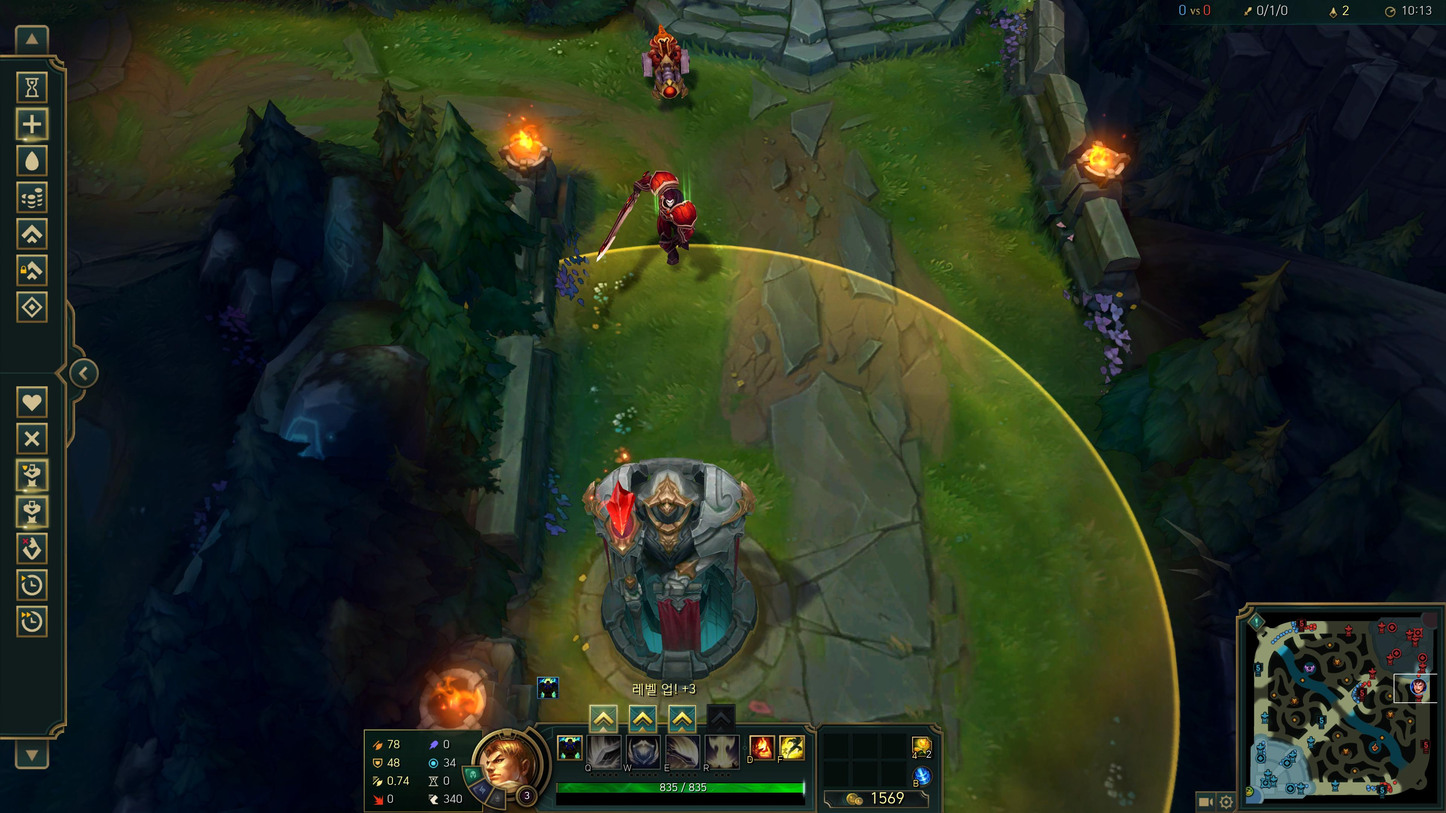enemy-siege-minion: (642, 23, 689, 102)
enemy-tower: (582, 457, 757, 684)
